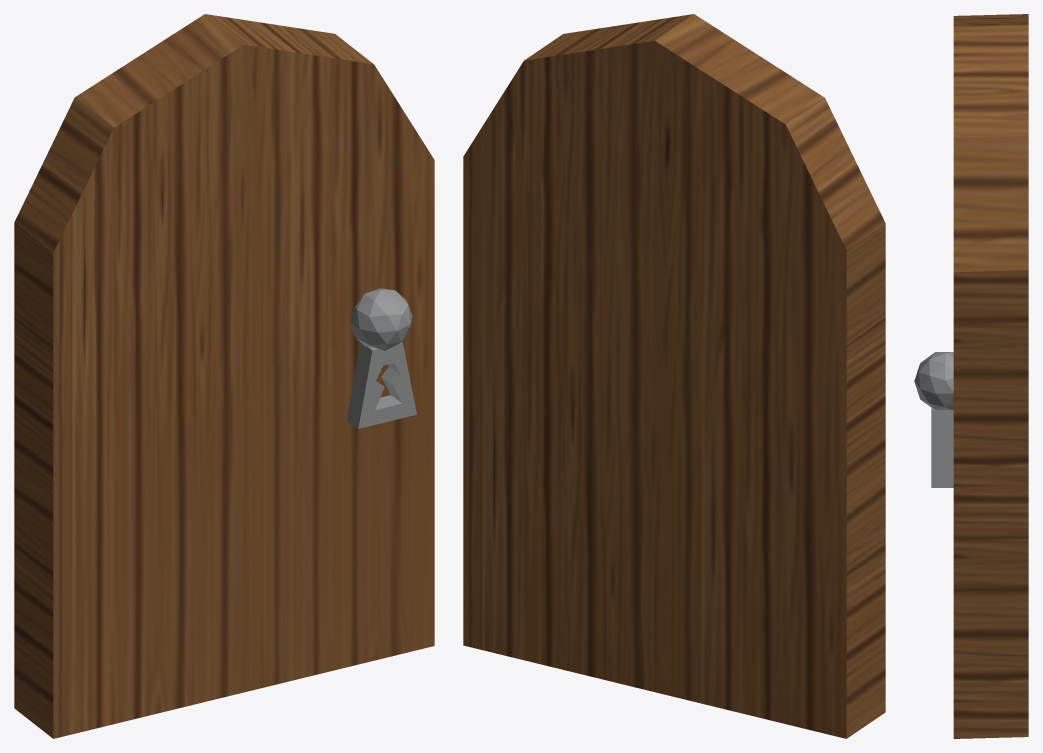
File: door.fbx
3 renders of one model, left to right at view 1: azimuth 30°, elevation 25°; view 2: azimuth 150°, elevation 25°; view 3: azimuth 270°, elevation 25°, orthographic. The views are drawn at different scales.
Visible parts, largest first — view 1: puerta, mango; view 2: puerta; view 3: puerta, mango.
Part boxes in pixels (left/top/right/bottom): puerta: left=14, top=14, right=434, bottom=738; mango: left=346, top=288, right=416, bottom=428; puerta: left=463, top=14, right=885, bottom=738; puerta: left=953, top=14, right=1028, bottom=738; mango: left=914, top=352, right=953, bottom=487.
Bounding box in the file's own units: 152 × 248 × 41.17.
